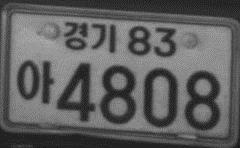0: (141, 66, 179, 129)
3: (153, 26, 176, 58)
4: (55, 62, 96, 122)
8: (183, 69, 222, 131), (98, 63, 137, 124), (127, 24, 151, 56)
경기_H: (62, 21, 117, 54)
아: (16, 58, 55, 104)
